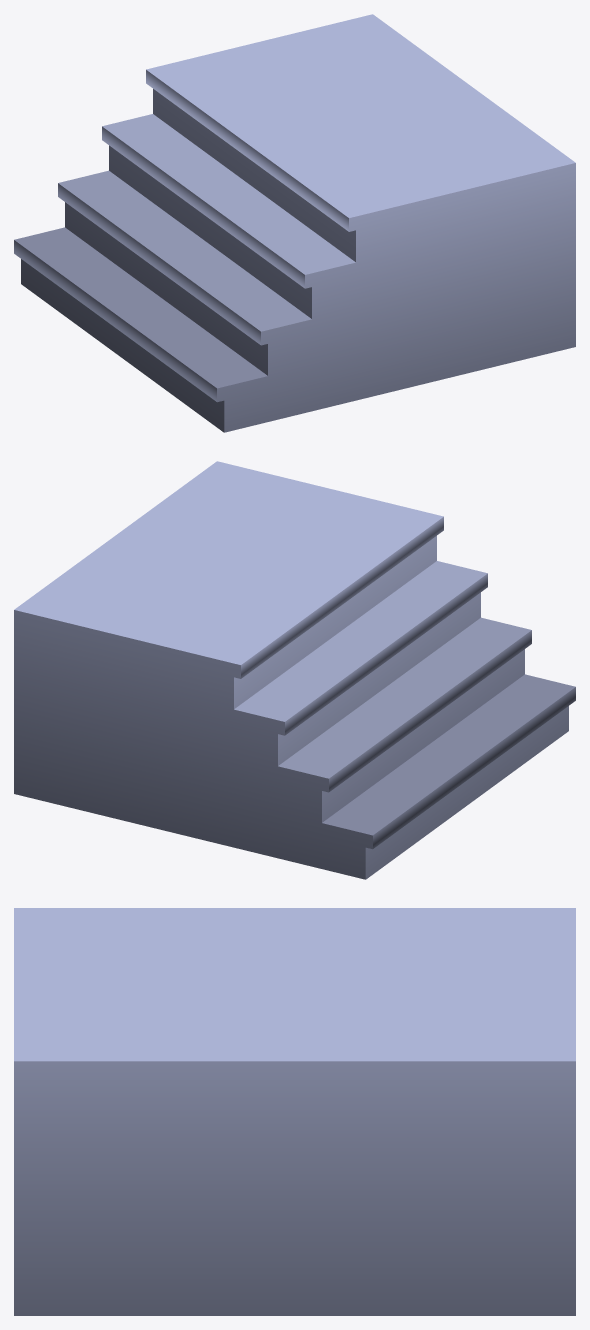
Rendered from stairs-full.glb.
3 renders of one model, top to bottom at view 1: azimuth 30°, elevation 25°; view 2: azimuth 150°, elevation 25°; view 3: azimuth 270°, elevation 25°, orthographic. The views are drawn at different scales.
Parts seen in each view (by area): view 1: stairs-full; view 2: stairs-full; view 3: stairs-full.
Part boxes in pixels (left/top/right/bottom): stairs-full: left=14, top=14, right=575, bottom=432; stairs-full: left=14, top=461, right=575, bottom=879; stairs-full: left=14, top=908, right=575, bottom=1315.
Bounding box in the file's own units: 1.02 × 0.5 × 1.
Materials: 1 (1 with a texture image).
